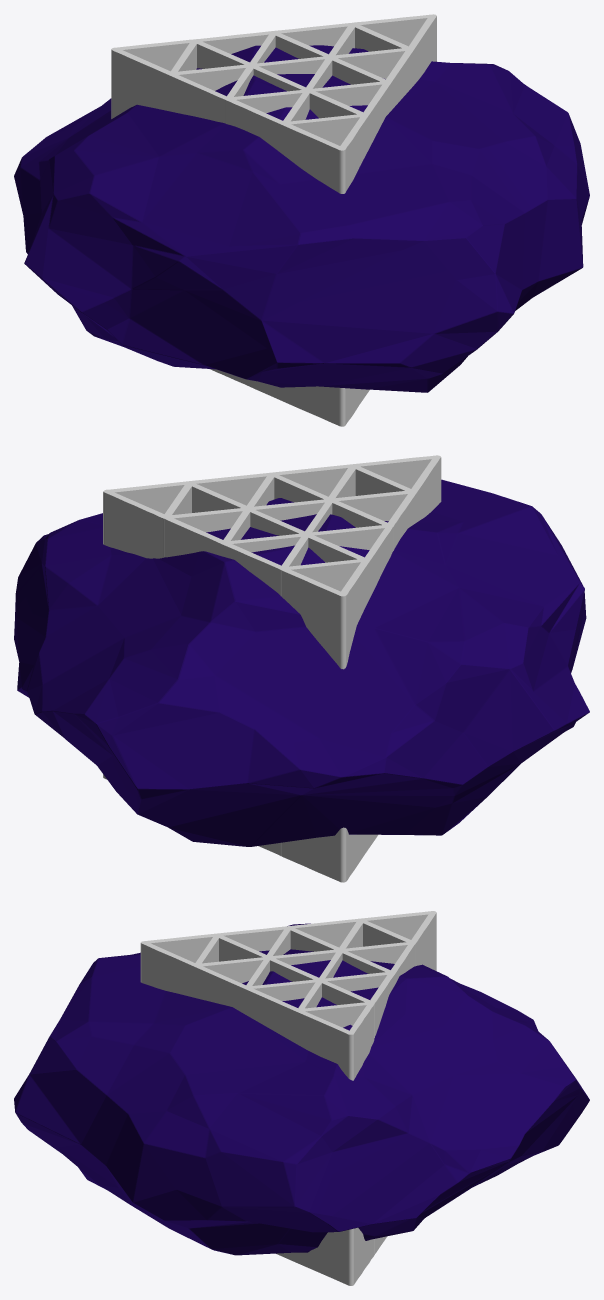
Rendered from three.glb.
3 views of the same model, one above another, from view 1: azimuth 30°, elevation 25°; view 2: azimuth 150°, elevation 25°; view 3: azimuth 270°, elevation 25° (orthographic). The views are drawn at different scales.
Visible parts, largest first — view 1: Cube.007, Curve; view 2: Cube.007, Curve; view 3: Cube.007, Curve.
Part boxes in pixels (<box>): Cube.007: <box>14,45,589,392</box>; Curve: <box>111,14,436,426</box>; Cube.007: <box>14,479,589,846</box>; Curve: <box>103,455,441,882</box>; Cube.007: <box>14,923,589,1255</box>; Curve: <box>140,911,436,1285</box>.
Size of the model in its own units: 2 by 0.9812 by 2.04.
